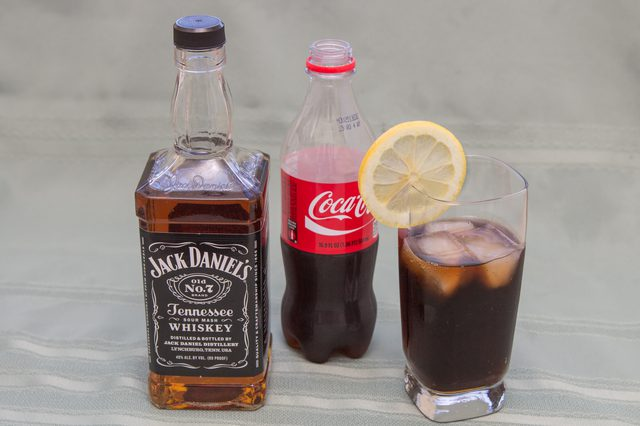coke: (286, 39, 373, 364)
